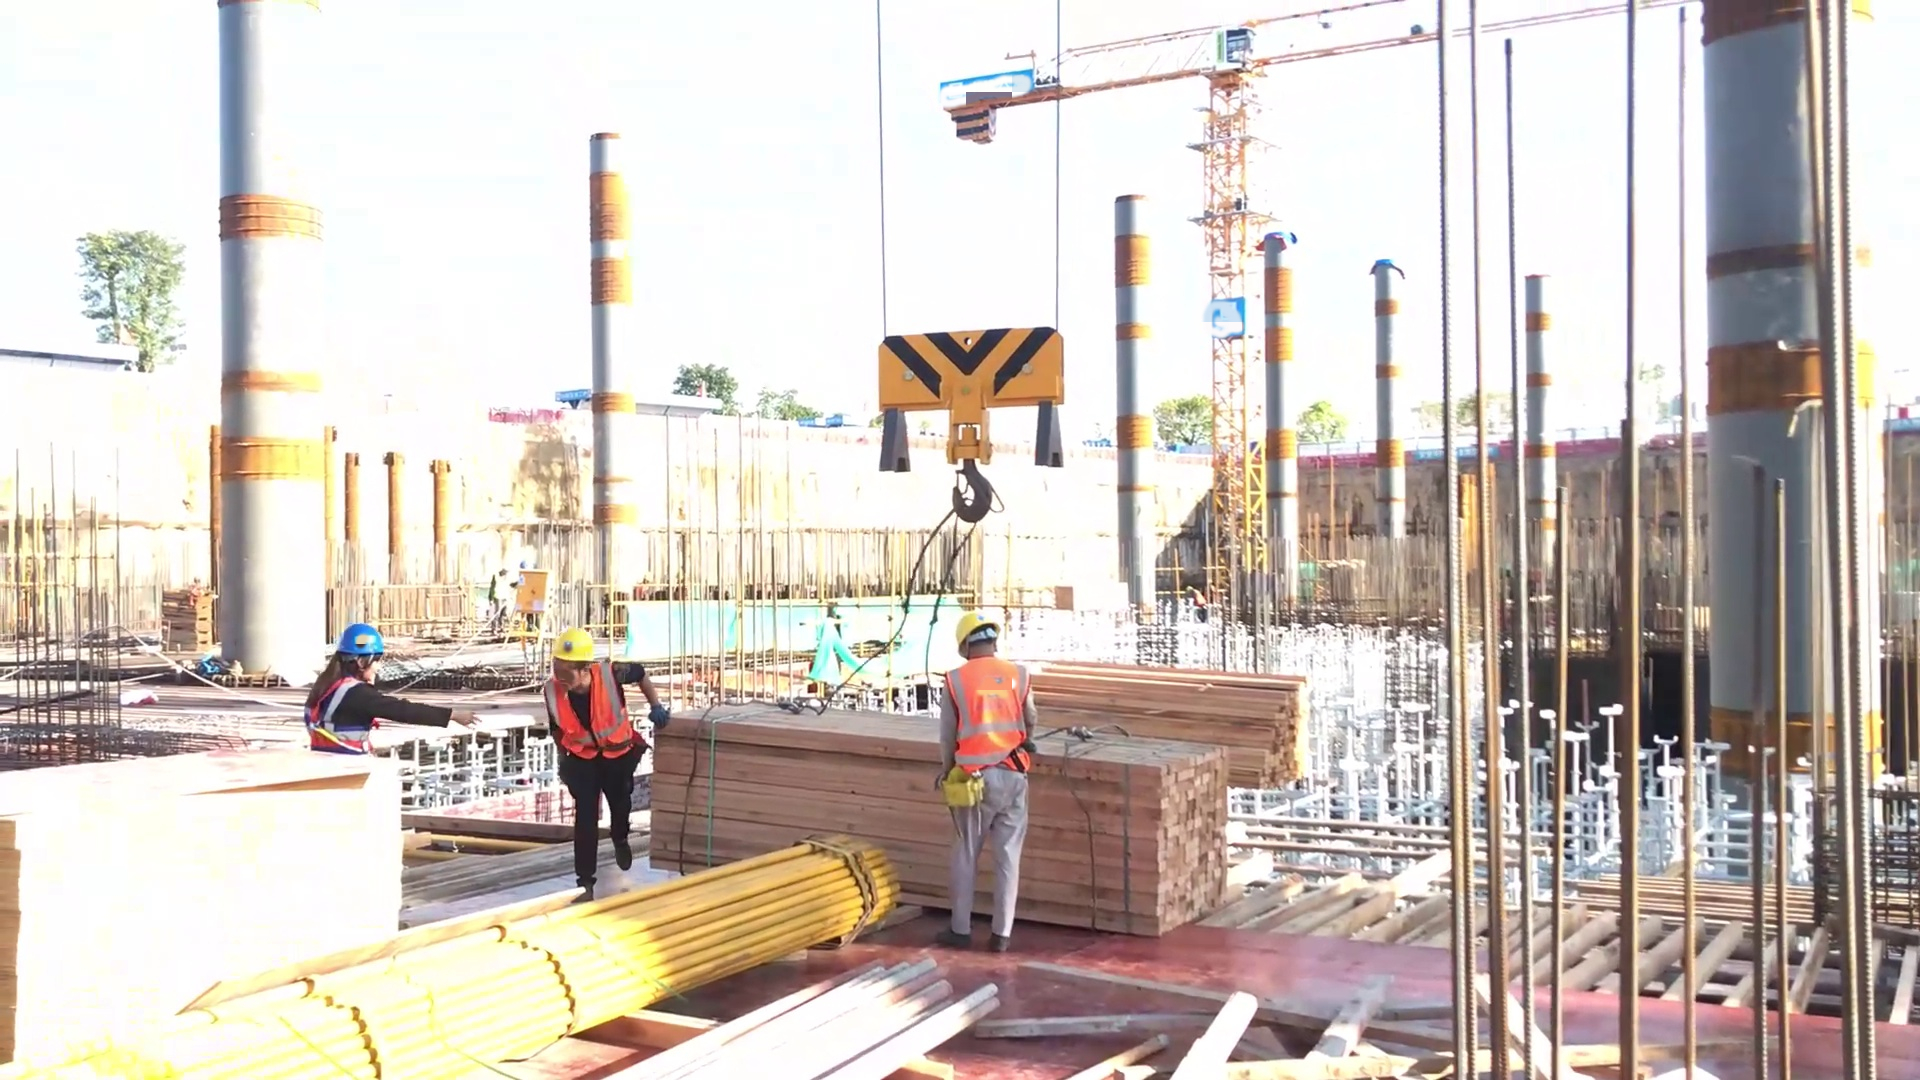helmet: (948, 597, 1015, 660), (331, 614, 394, 665), (547, 622, 598, 676)
hook: (871, 329, 1073, 530)
person: (929, 606, 1039, 960), (540, 629, 673, 899), (305, 624, 475, 758)
vest: (940, 661, 1031, 765), (541, 669, 641, 757)
wood: (621, 685, 1246, 945), (1013, 641, 1312, 800)
